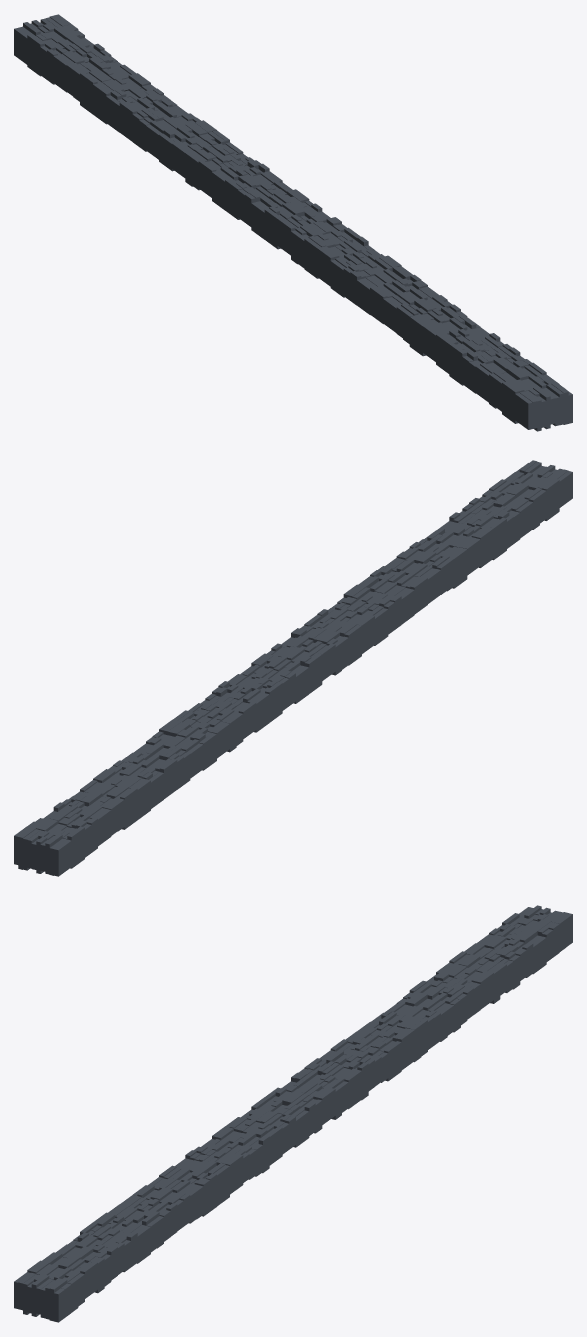
The model's file is greebleWall.obj.
3 views of the same model, one above another, from view 1: azimuth 30°, elevation 25°; view 2: azimuth 150°, elevation 25°; view 3: azimuth 330°, elevation 25° (orthographic).
Visible parts, largest first — view 1: discombobulated_mesh_discombobulated_object.009; view 2: discombobulated_mesh_discombobulated_object.009; view 3: discombobulated_mesh_discombobulated_object.009.
Boxes of the visible parts, x1=… form: discombobulated_mesh_discombobulated_object.009: x1=14, y1=14, x2=572, y2=431; discombobulated_mesh_discombobulated_object.009: x1=14, y1=460, x2=572, y2=876; discombobulated_mesh_discombobulated_object.009: x1=14, y1=905, x2=572, y2=1322.
Bounding box in the file's own units: 2 × 1.4 × 40.
Materials: 2 (1 with a texture image).
